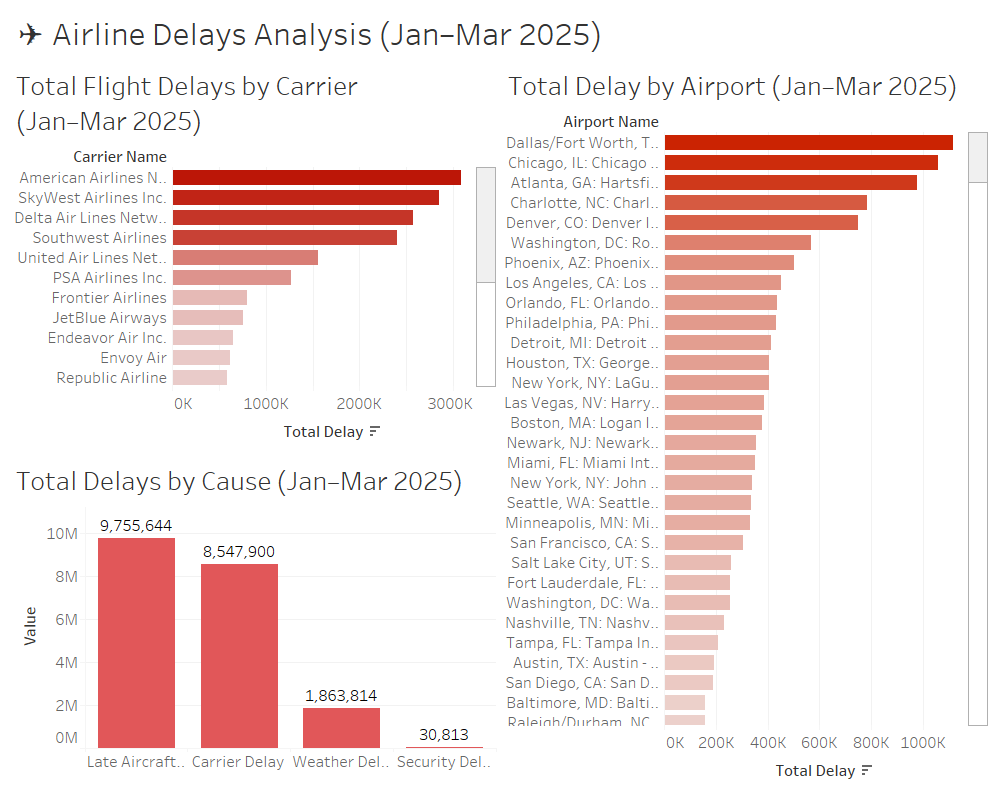

Layout of this report page (visuals, bound fields, positions):
{"tool":"tableau","page":{"name":"✈️ Airline Delays Analysis (Jan–Mar 2025)","canvas":[1000,800],"ordinal":0},"visuals":[{"type":"title","box":[8,8,984,50]},{"type":"worksheet","title":"Total Flight Delays by Carrier (Jan–Mar 2025)","mark":"Automatic","rows":["carrier_name"],"cols":["total_delay"],"box":[8,58,492,395]},{"type":"worksheet","title":"Total Delay by Airport (Jan–Mar 2025)","mark":"Automatic","rows":["airport_name"],"cols":["total_delay"],"box":[500,58,492,734]},{"type":"worksheet","title":"Total Delays by Cause (Jan–Mar 2025)","mark":"Automatic","box":[8,453,492,339]}]}

Visuals, with their boxes in screenshot pixels (x1, y1, x2, y2), scaled from the page's 1000x800 canvas onto the 1000x800 screenshot:
title: detection(8, 8, 992, 58)
"Total Flight Delays by Carrier (Jan–Mar 2025)" worksheet: detection(8, 58, 500, 453)
"Total Delay by Airport (Jan–Mar 2025)" worksheet: detection(500, 58, 992, 792)
"Total Delays by Cause (Jan–Mar 2025)" worksheet: detection(8, 453, 500, 792)
